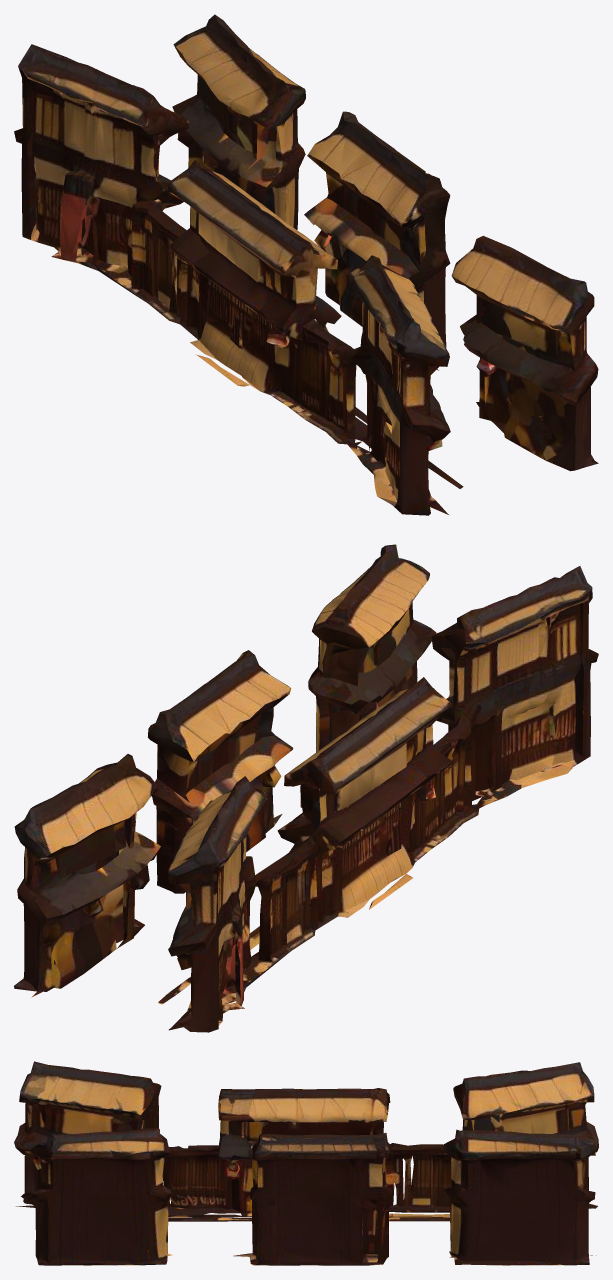
The model's file is hanamikoji.glb.
3 renders of one model, top to bottom at view 1: azimuth 30°, elevation 25°; view 2: azimuth 150°, elevation 25°; view 3: azimuth 270°, elevation 25°, orthographic. The views are drawn at different scales.
Parts seen in each view (by area): view 1: logan-textured.obj; view 2: logan-textured.obj; view 3: logan-textured.obj.
Boxes of the visible parts, x1,y1,x2,y2 form: logan-textured.obj: (14, 14, 598, 515); logan-textured.obj: (14, 544, 598, 1032); logan-textured.obj: (14, 1061, 598, 1265).
Bounding box in the file's own units: 0.2958 × 0.2623 × 1.
1 material, 1 textured.
